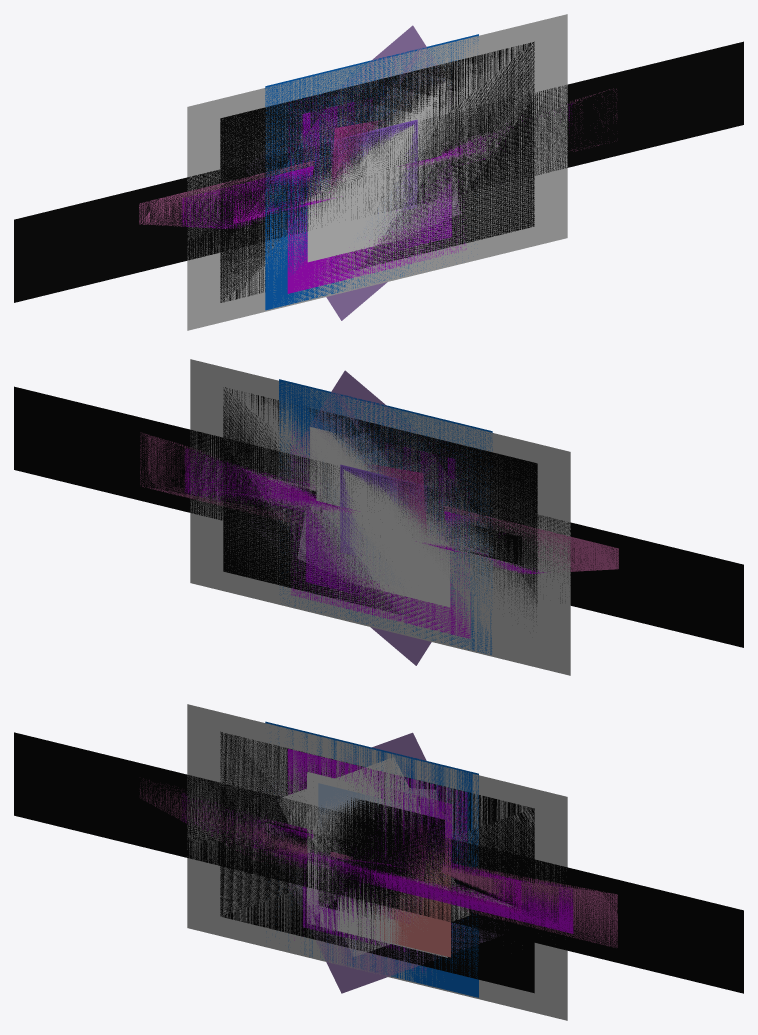
Rendered from Skeleton Prefab Mesh _Eb_Wisp_04_.glb.
3 renders of one model, top to bottom at view 1: azimuth 30°, elevation 25°; view 2: azimuth 150°, elevation 25°; view 3: azimuth 330°, elevation 25°, orthographic.
Parts seen in each view (by area): view 1: Skeleton Prefab Mesh "Eb_Wisp_04"; view 2: Skeleton Prefab Mesh "Eb_Wisp_04"; view 3: Skeleton Prefab Mesh "Eb_Wisp_04".
Part boxes in pixels (x1,y1,x2,y2): Skeleton Prefab Mesh "Eb_Wisp_04": [14, 14, 743, 330]; Skeleton Prefab Mesh "Eb_Wisp_04": [14, 359, 743, 675]; Skeleton Prefab Mesh "Eb_Wisp_04": [14, 704, 743, 1020].
Size of the model in its own units: 15.75 by 5.74 by 0.
